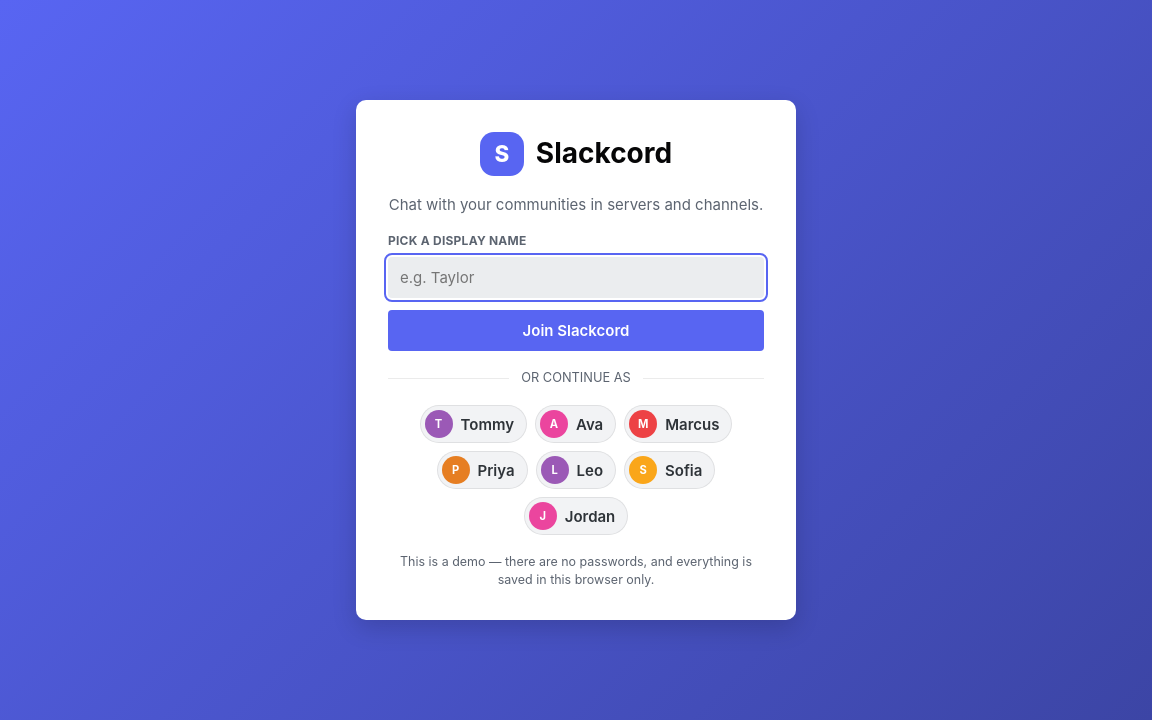
creating a server makes you the owner with a #general channel
The image size is (1152, 720).
Type "Taylor" into the field labelled "Pick a display name".
click(576, 278); type("Taylor")  # box [388, 258, 764, 298]
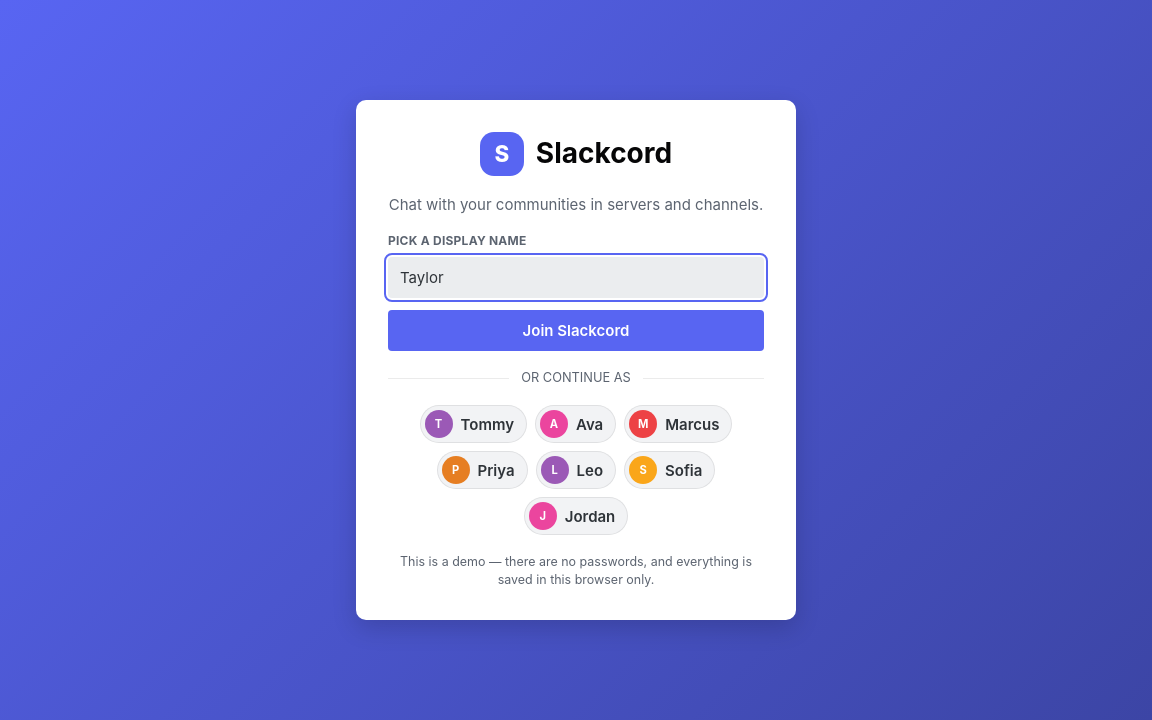
Click the button "Join Slackcord".
click(576, 331)  # box [388, 310, 764, 352]
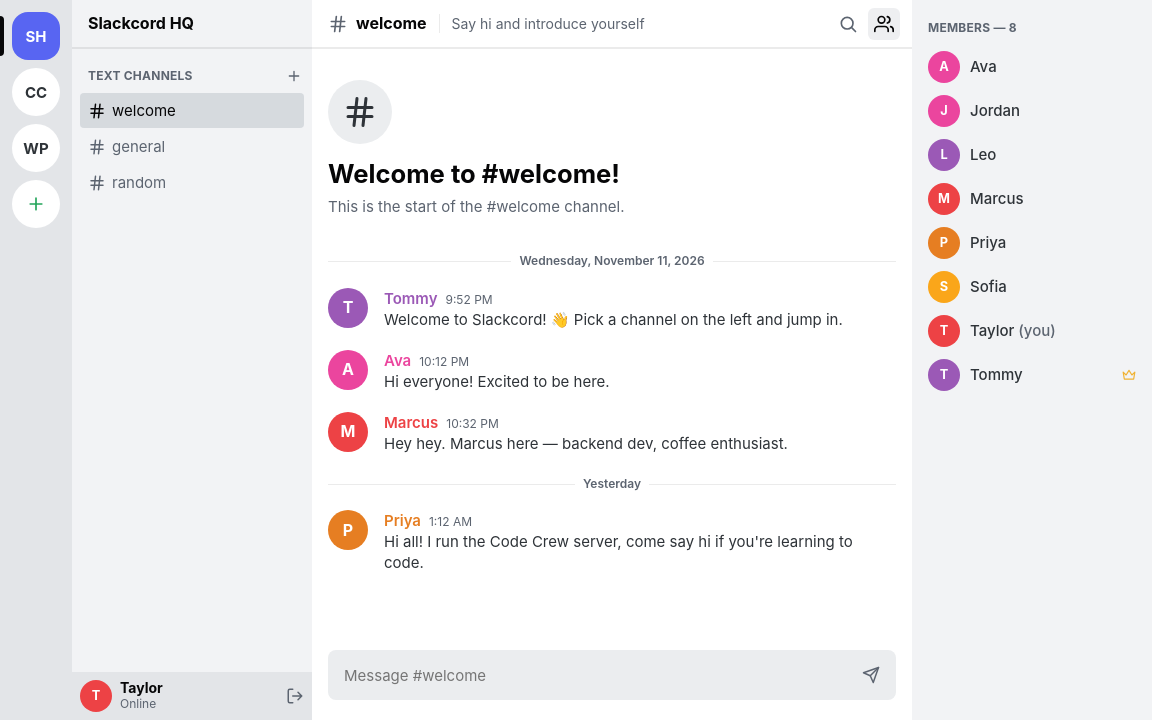
Click the button named "Create a server".
click(36, 204)  # box [12, 180, 60, 228]
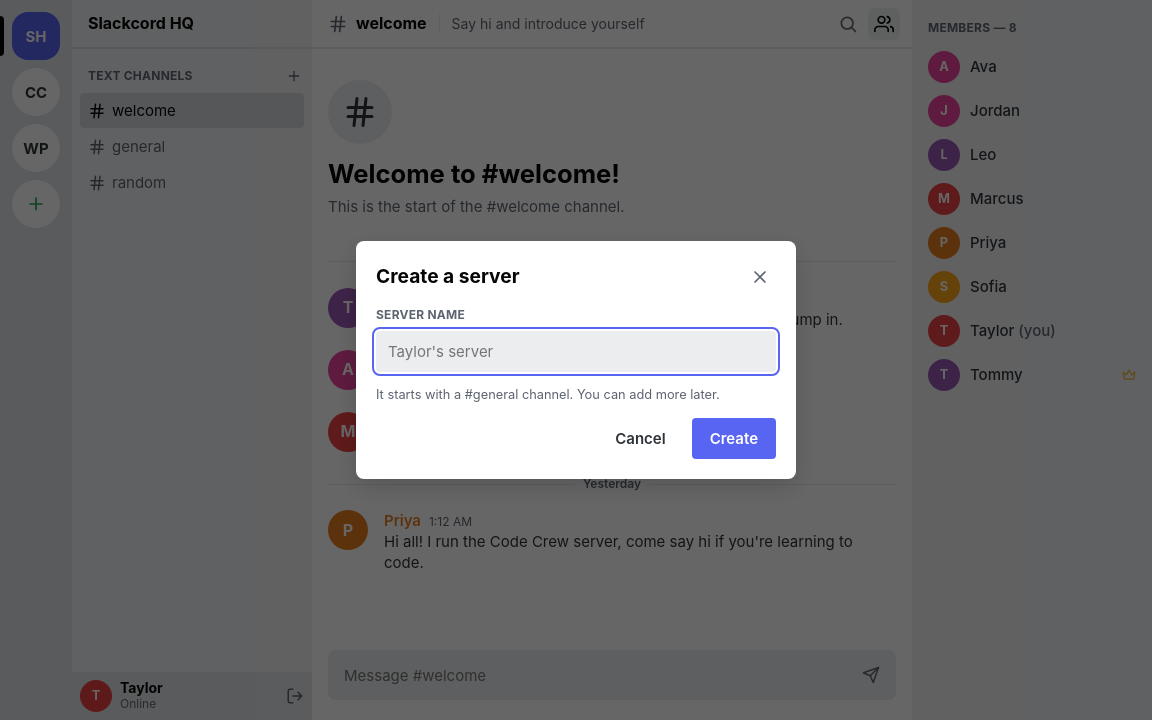
Type "Taylor's Place" into the field labelled "Server name".
click(576, 352); type("Taylor's Place")  # box [376, 331, 776, 372]
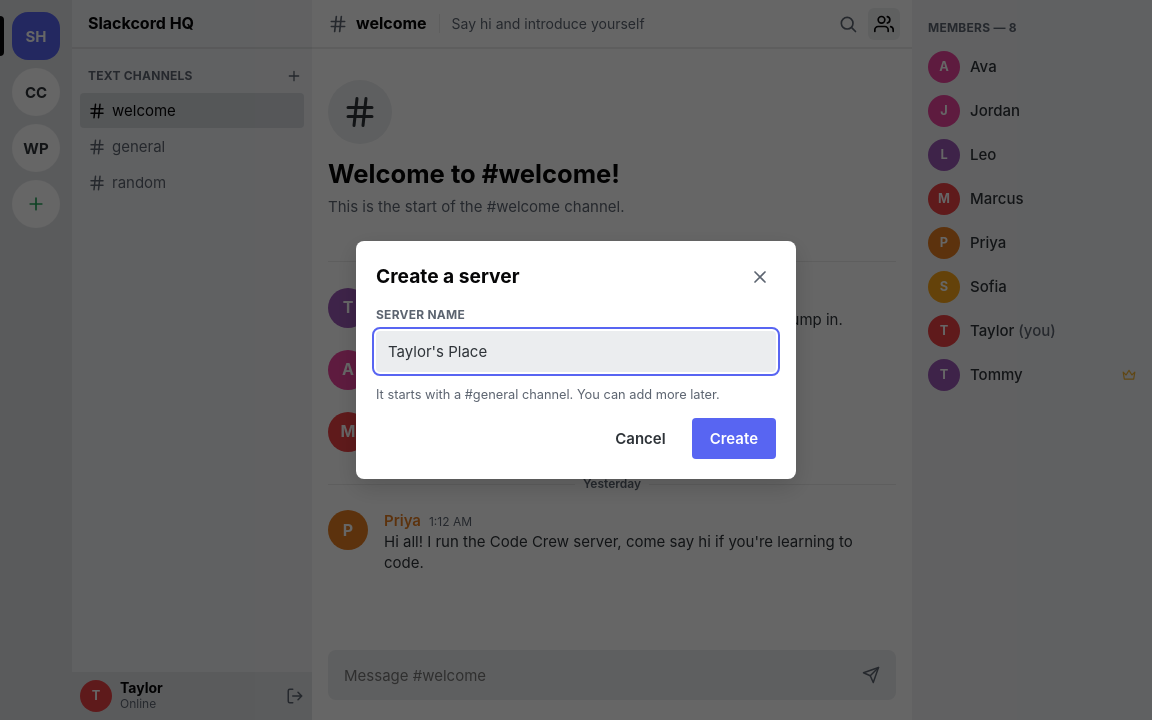
Click the button "Create".
click(734, 439)  # box [692, 418, 776, 459]
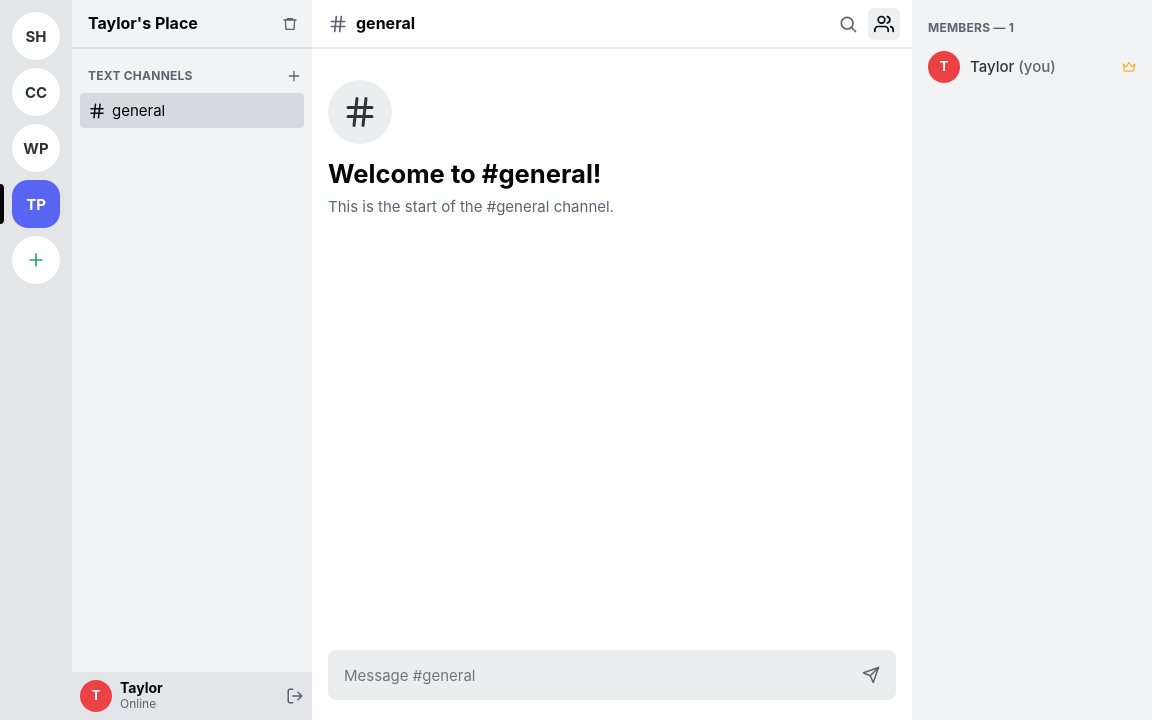
Check: the heading "Taylor's Place" is shown, box [88, 12, 198, 35]
Check: the heading "general" is shown, box [356, 12, 415, 35]
Check: the button named "delete server" is shown, box [276, 12, 300, 36]
